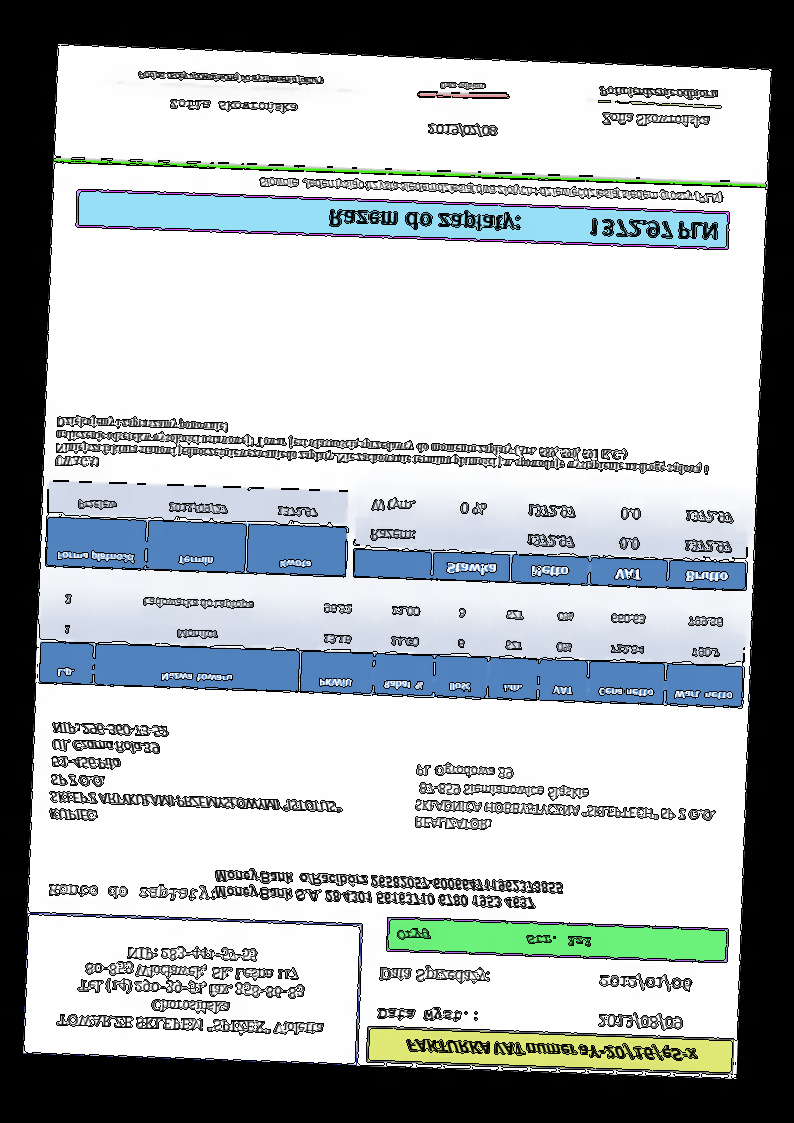Table: (37, 578, 749, 711), (351, 484, 751, 593), (44, 479, 351, 579)
TextBox: (51, 412, 715, 495), (46, 716, 348, 833), (50, 936, 331, 1041), (409, 759, 720, 843), (324, 202, 720, 249), (255, 173, 725, 208), (210, 867, 566, 913), (403, 1035, 704, 1069), (393, 926, 596, 954), (44, 878, 217, 905), (135, 69, 328, 89), (167, 96, 301, 117), (373, 1003, 481, 1029), (374, 964, 491, 988), (599, 110, 716, 132), (594, 971, 694, 996), (595, 1009, 687, 1036), (595, 84, 721, 101), (424, 121, 501, 141), (437, 76, 489, 95)
